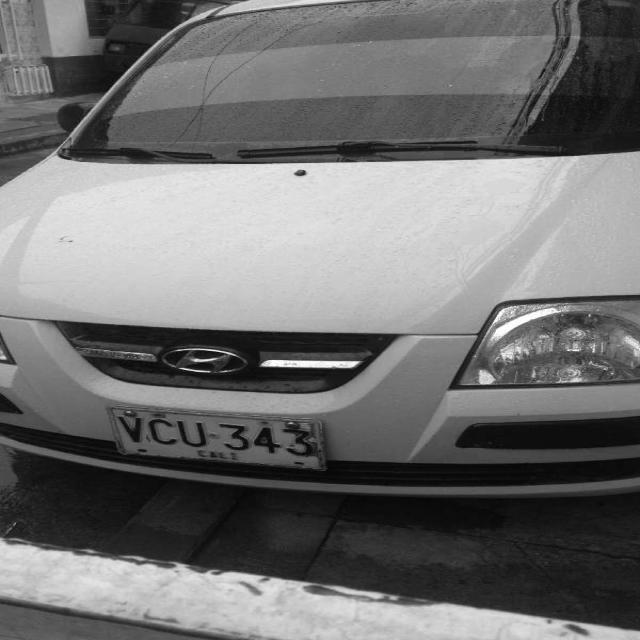plate: (105, 405, 340, 483)
